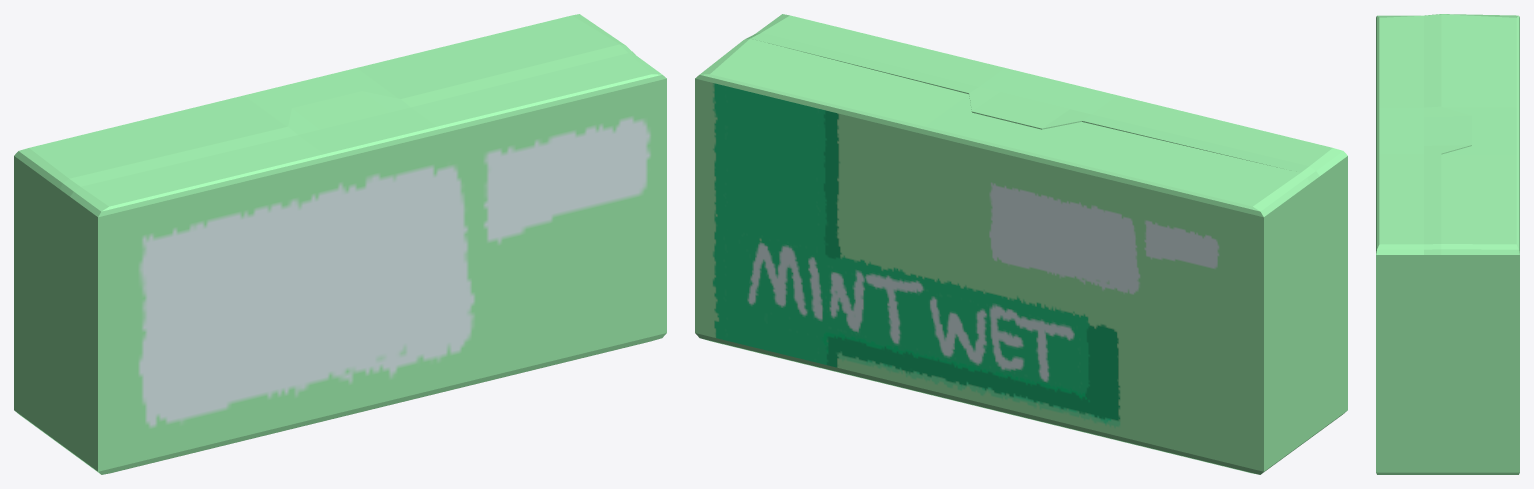
The model's file is Snack.PowderedDry.fbx.
The picture shows the model from 3 angles, left to right: view 1: azimuth 30°, elevation 25°; view 2: azimuth 150°, elevation 25°; view 3: azimuth 270°, elevation 25°; orthographic projection. The views are drawn at different scales.
Visible parts, largest first — view 1: Snack.PowderedDry; view 2: Snack.PowderedDry; view 3: Snack.PowderedDry.
Part boxes in pixels (x1,y1,x2,y2): Snack.PowderedDry: (14,14,666,474); Snack.PowderedDry: (695,14,1347,474); Snack.PowderedDry: (1376,14,1519,474).
Size of the model in its own units: 107 by 48.31 by 27.33.
